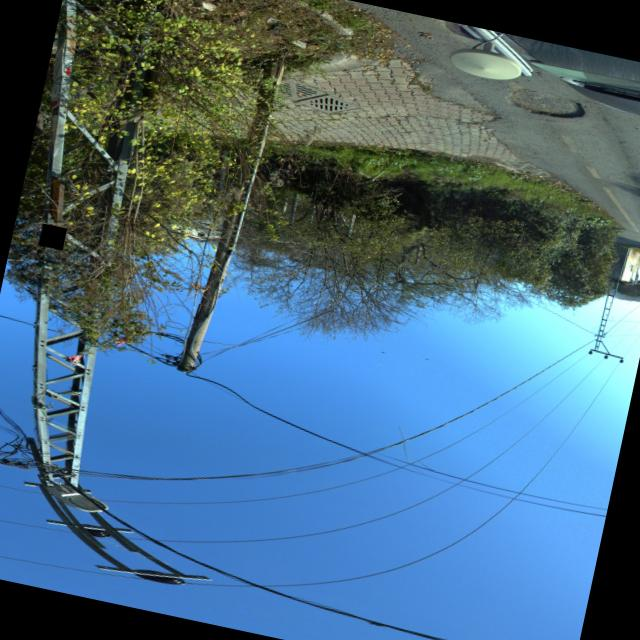Utility Pole Information Plate: (38, 222, 64, 248)
